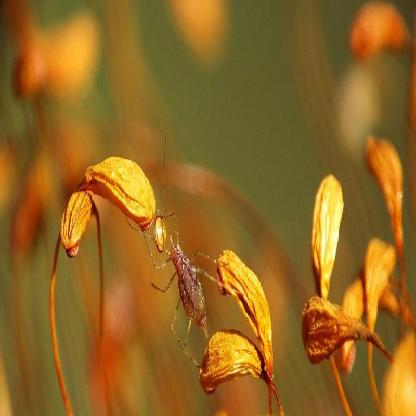aphid: (139, 196, 217, 366)
